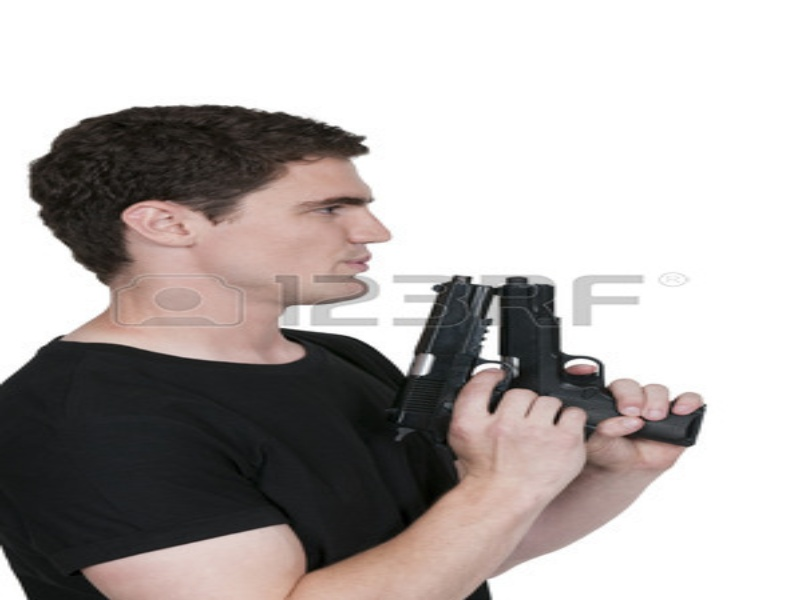gun: (493, 271, 705, 445), (369, 276, 535, 471)
